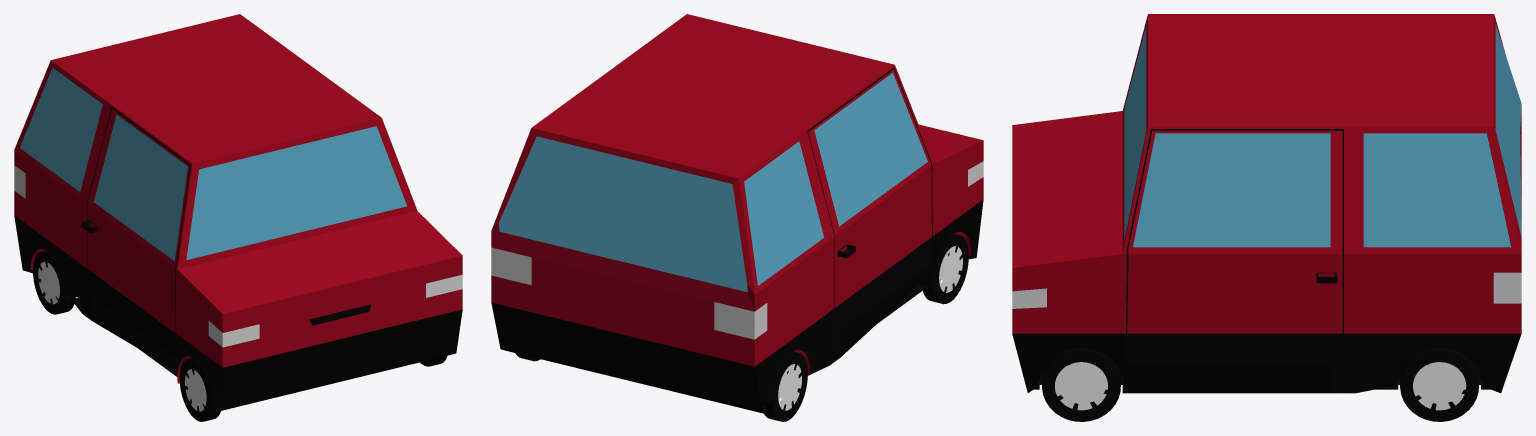
The model's file is NPCcar3_red.fbx.
The picture shows the model from 3 angles, left to right: view 1: azimuth 30°, elevation 25°; view 2: azimuth 150°, elevation 25°; view 3: azimuth 270°, elevation 25°; orthographic projection. The views are drawn at different scales.
Visible parts, largest first — view 1: car03_red; view 2: car03_red; view 3: car03_red.
Boxes of the visible parts, x1,y1,x2,y2 form: car03_red: (14,14,462,421); car03_red: (491,14,983,421); car03_red: (1012,14,1521,421).
Size of the model in its own units: 51.11 by 43.83 by 72.08.
